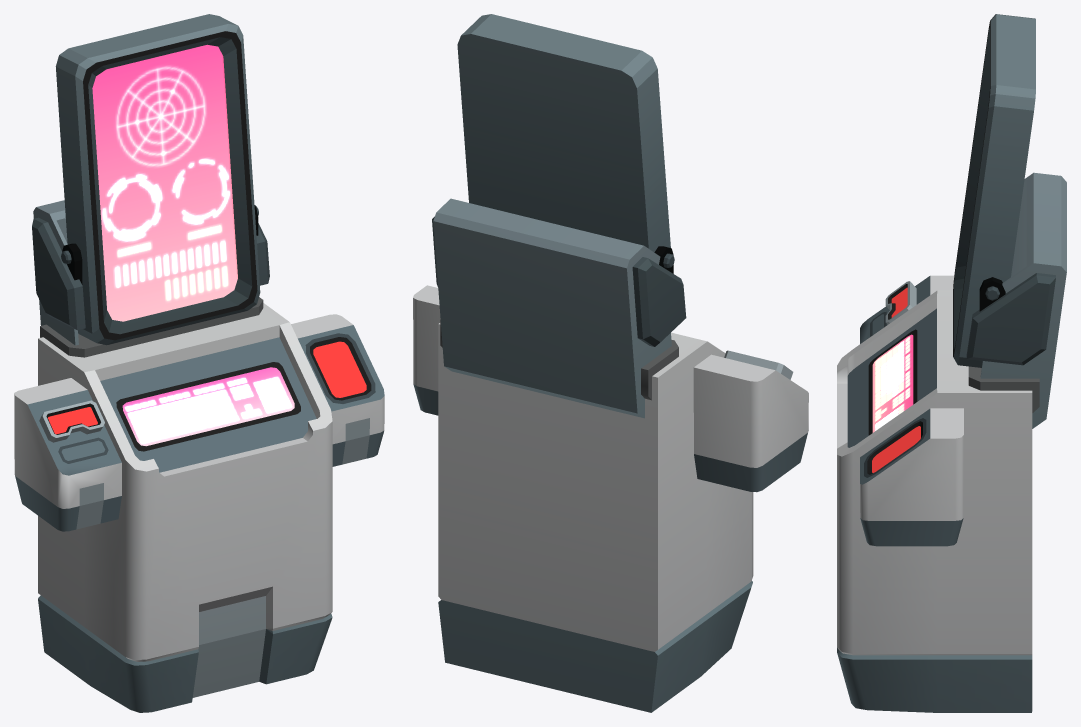
The model's file is Terminal_003.glb.
3 views of the same model, side by side, from view 1: azimuth 30°, elevation 25°; view 2: azimuth 150°, elevation 25°; view 3: azimuth 270°, elevation 25° (orthographic). The views are drawn at different scales.
Visible parts, largest first — view 1: Terminal_003; view 2: Terminal_003; view 3: Terminal_003.
Part boxes in pixels (x1=…): Terminal_003: x1=14, y1=14, x2=384, y2=712; Terminal_003: x1=413, y1=14, x2=808, y2=712; Terminal_003: x1=837, y1=14, x2=1066, y2=712.
Bounding box in the file's own units: 1.24 × 2.18 × 0.737.
Materials: 4 (3 with a texture image).
